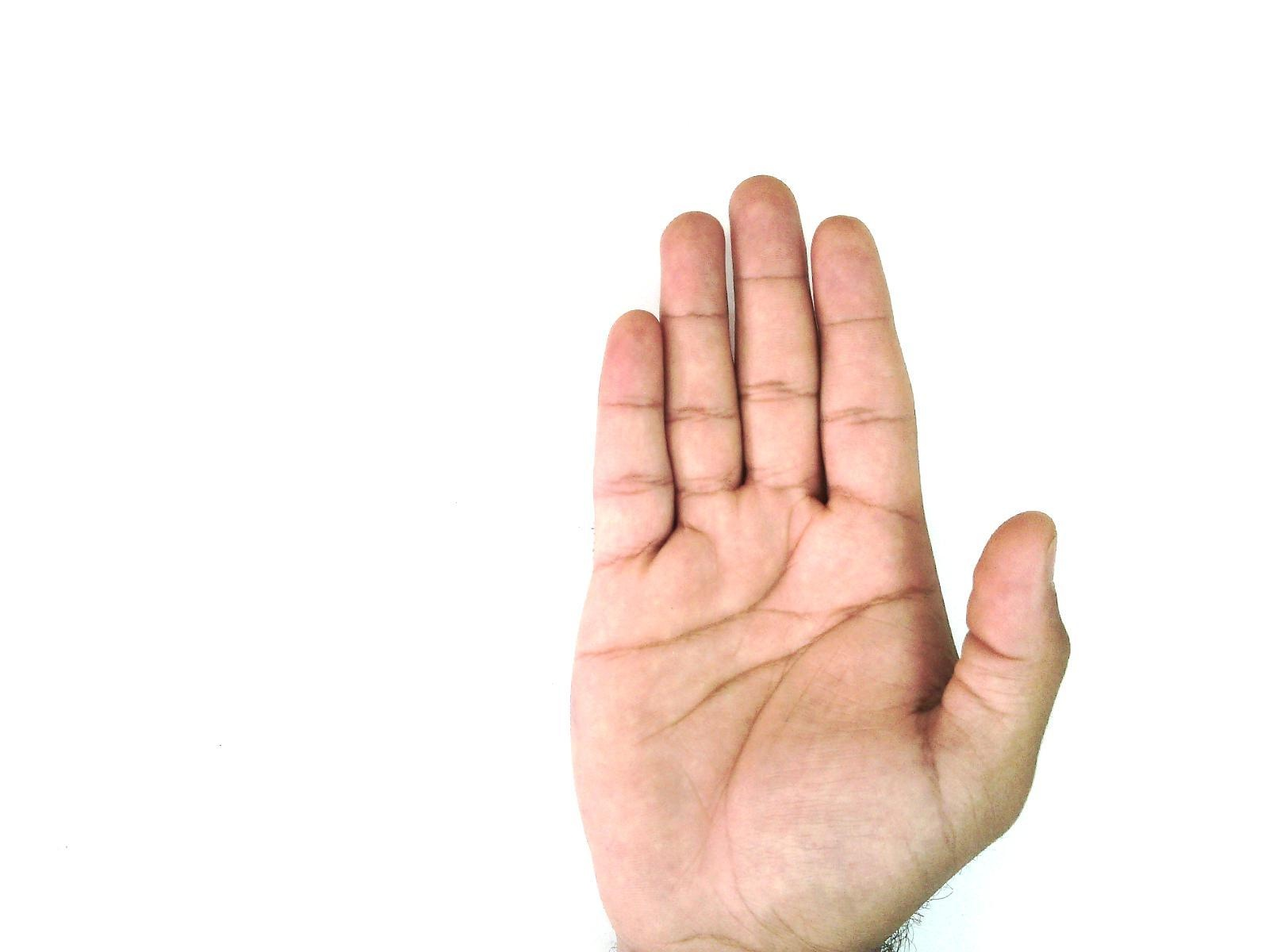open_palm: (566, 174, 1073, 951)
